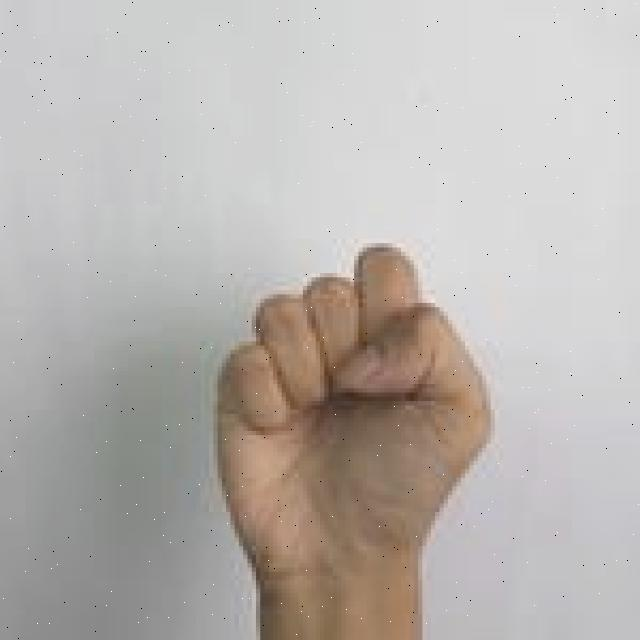S: (216, 240, 494, 640)
